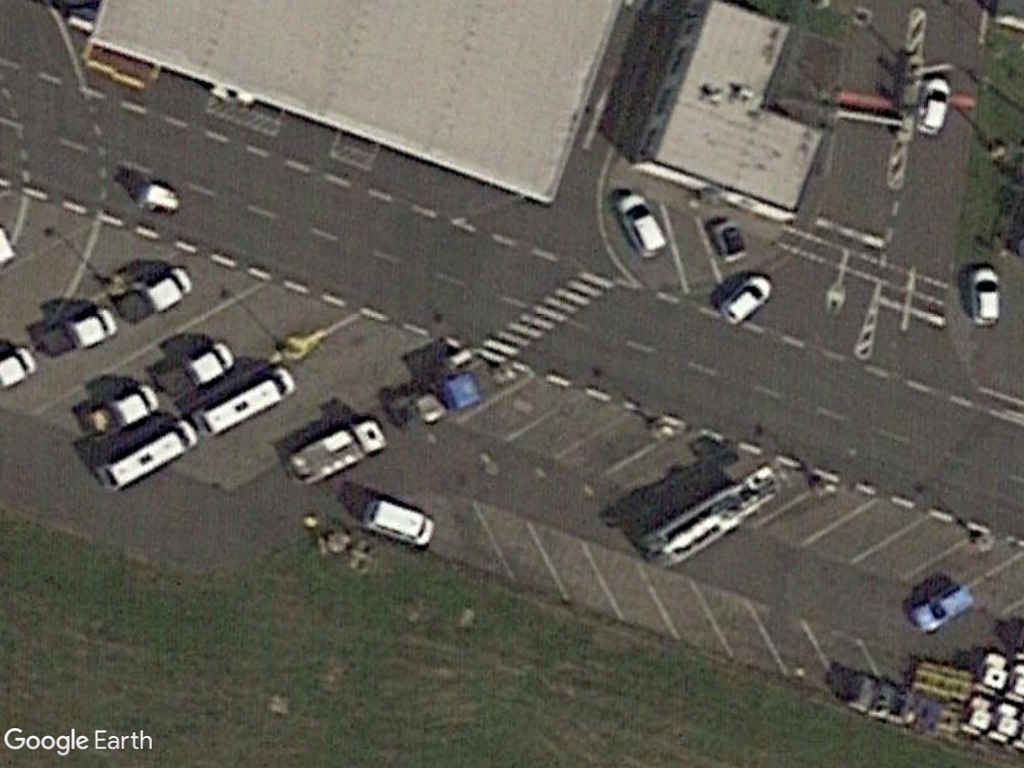car: (609, 186, 671, 262), (714, 264, 775, 335), (908, 579, 979, 636), (912, 75, 957, 143), (967, 261, 1004, 329)
van: (94, 416, 205, 493), (190, 362, 298, 441), (355, 486, 441, 563)
